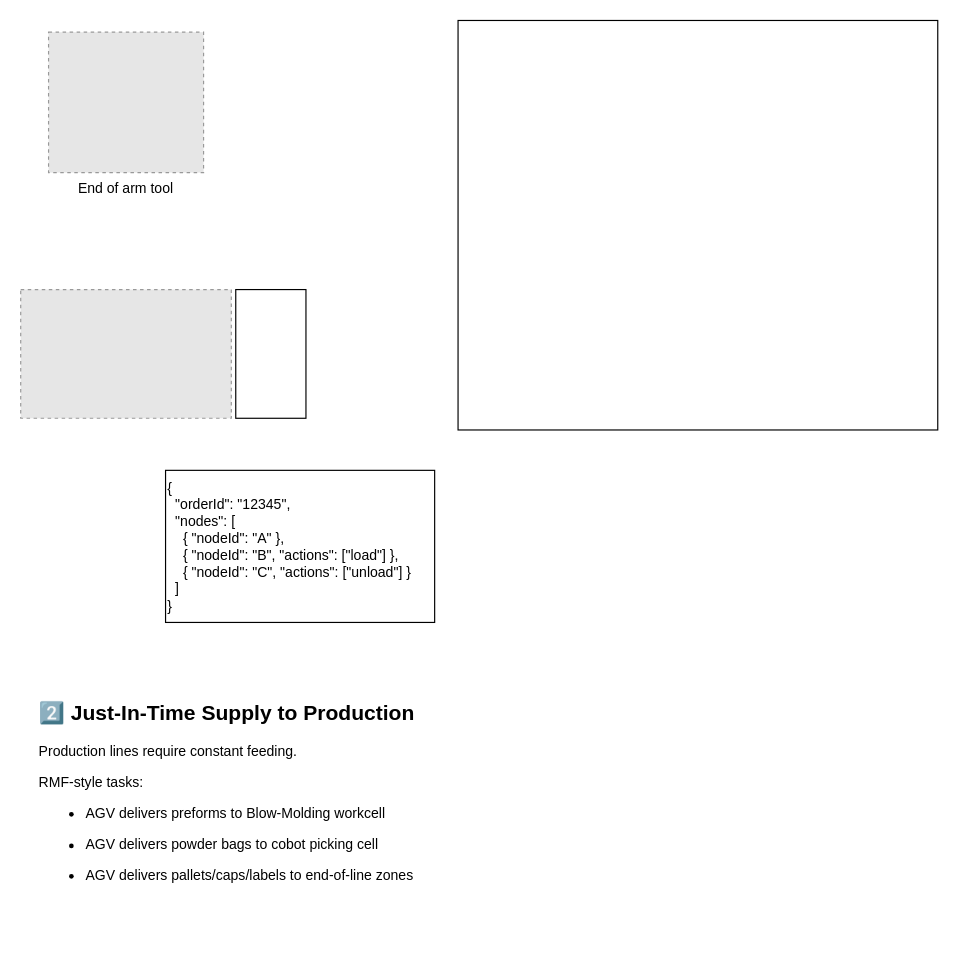
Some shapes in this 958 by 977 pixel diagram are drawn without their labels. Grey dashed boxes stand in for pictures. The centre of each missing label's shape, as x and y in pixels:
"Coke Factory - Plant" belongs at point (697, 224).
"VDA5050" belongs at point (270, 353).
